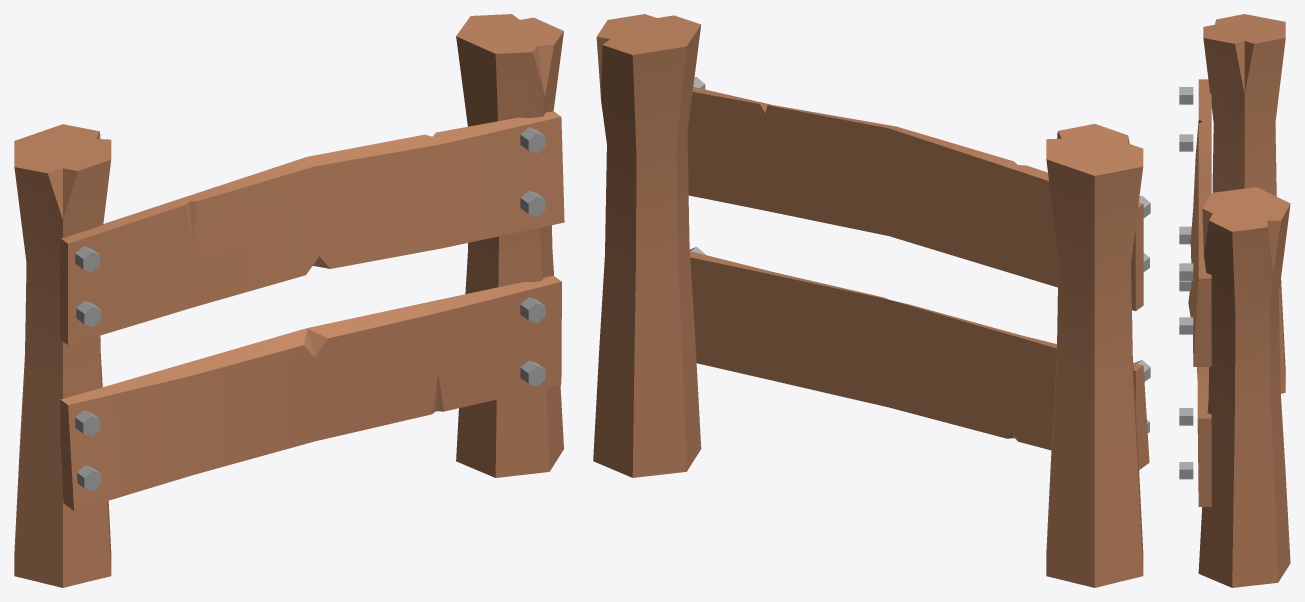
File: fence.fbx
3 renders of one model, left to right at view 1: azimuth 30°, elevation 25°; view 2: azimuth 150°, elevation 25°; view 3: azimuth 270°, elevation 25°, orthographic. The views are drawn at different scales.
Parts seen in each view (by area): view 1: pCube3; view 2: pCube3; view 3: pCube3, pCylinder3, pCylinder4, pCylinder7, pCylinder9, pCylinder10, pCylinder8, pCylinder11.
Boxes of the visible parts, left/top/right/bottom form: pCube3: left=14, top=14, right=564, bottom=587; pCube3: left=593, top=14, right=1149, bottom=587; pCube3: left=1188, top=14, right=1290, bottom=587; pCylinder3: left=1179, top=87, right=1193, bottom=104; pCylinder4: left=1179, top=134, right=1193, bottom=151; pCylinder7: left=1179, top=408, right=1193, bottom=425; pCylinder9: left=1179, top=263, right=1193, bottom=280; pCylinder10: left=1179, top=317, right=1193, bottom=334; pCylinder8: left=1179, top=462, right=1193, bottom=479; pCylinder11: left=1179, top=226, right=1191, bottom=244.
Size of the model in its own units: 11.2 by 8.39 by 2.33.
